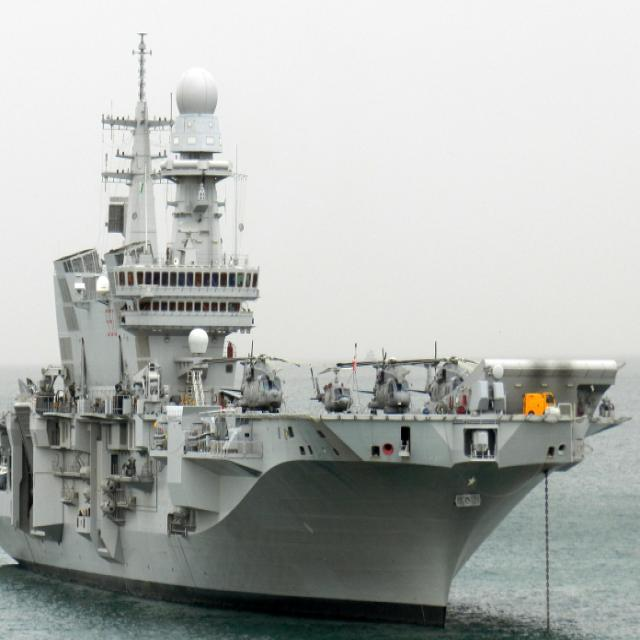Portanaves: (1, 21, 639, 637)
